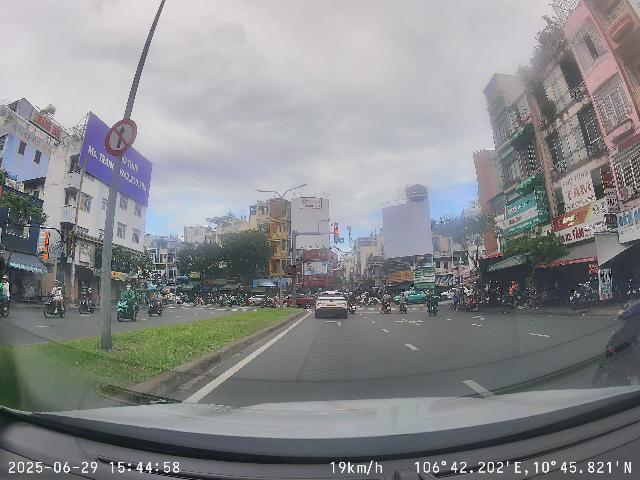136-cam-di-thang: (105, 118, 138, 155)
